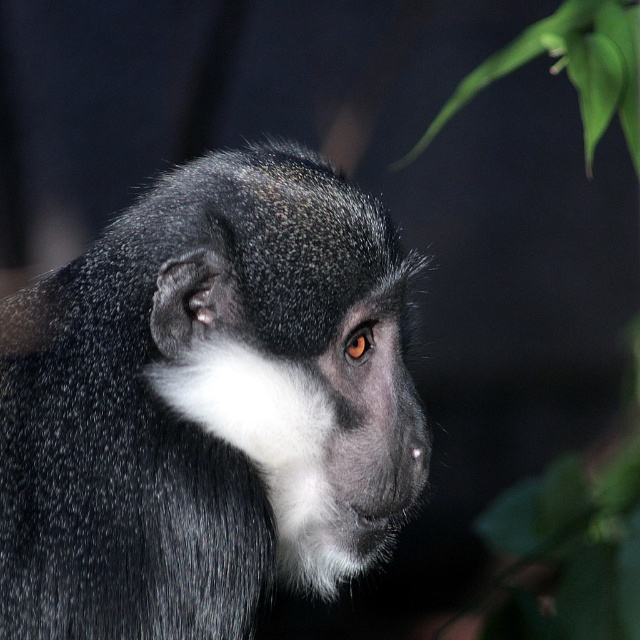Monkey: (0, 131, 445, 640)
